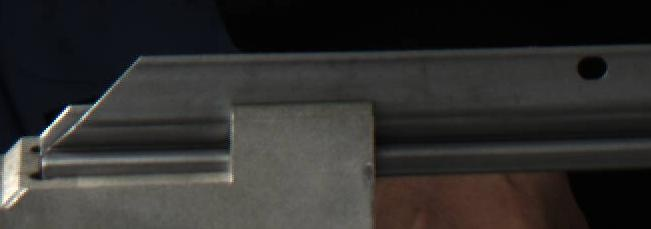cut: (32, 49, 205, 179)
holes: (574, 55, 609, 80)
